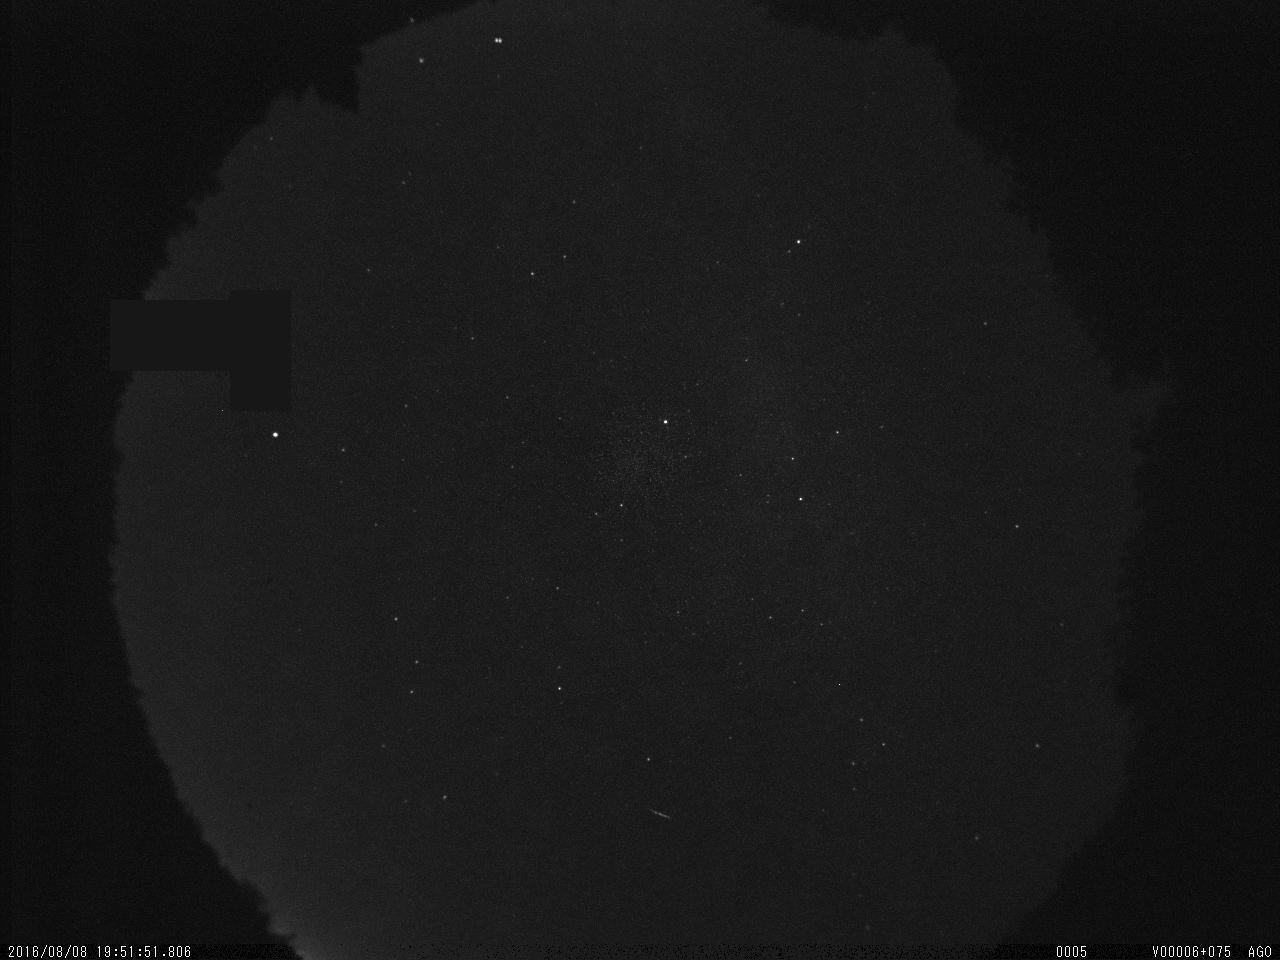meteor: (641, 804, 684, 829)
